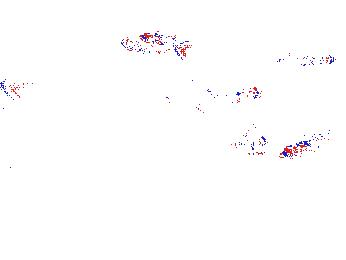X-ray fish: (231, 123, 266, 155), (84, 218, 124, 239)
glassfish: (78, 76, 177, 137), (152, 81, 231, 142)
red belly glassfish: (279, 129, 331, 161), (209, 85, 261, 106), (139, 30, 178, 45)
redtail glassfish: (120, 35, 193, 61), (267, 48, 336, 69)
